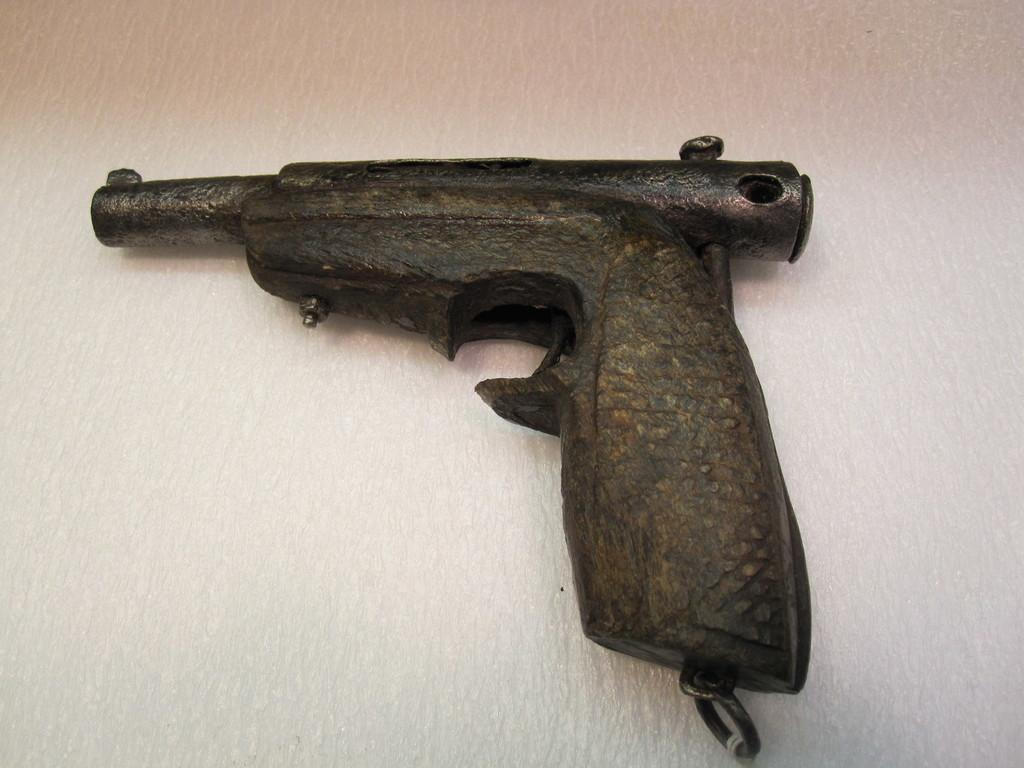Handgun: (93, 136, 812, 759)
